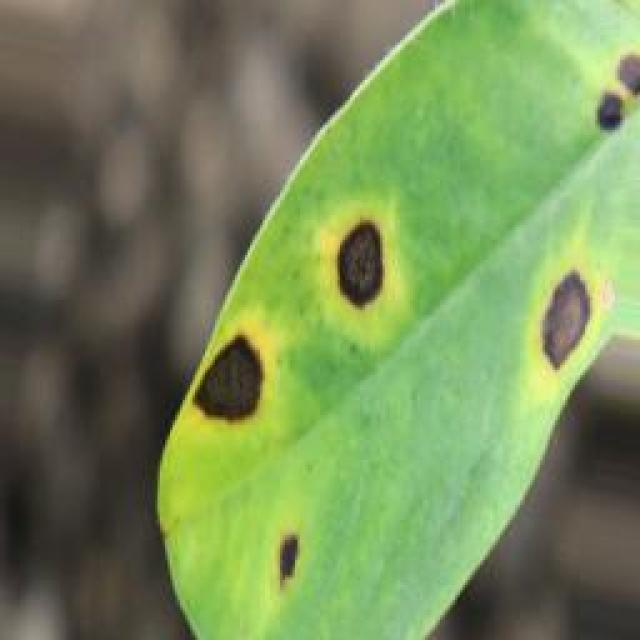Yellowish: (187, 304, 292, 462), (524, 247, 627, 406), (320, 185, 407, 321), (557, 30, 640, 147), (260, 491, 324, 595)
